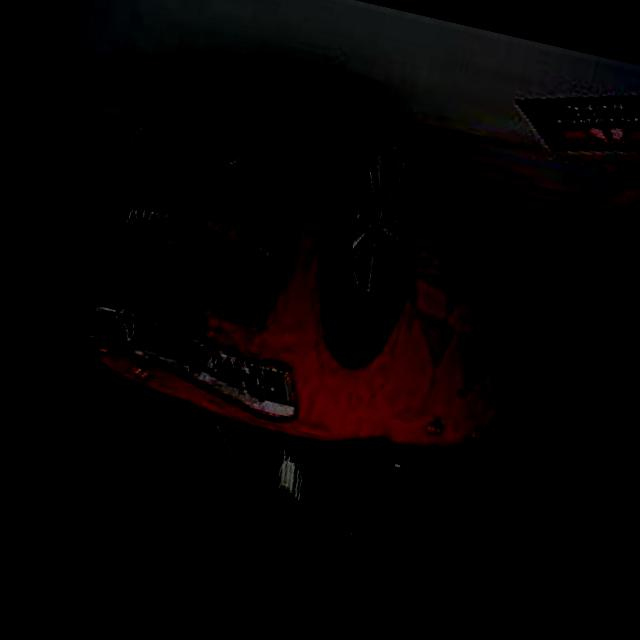PeroduaAtiva: (21, 46, 574, 579)
